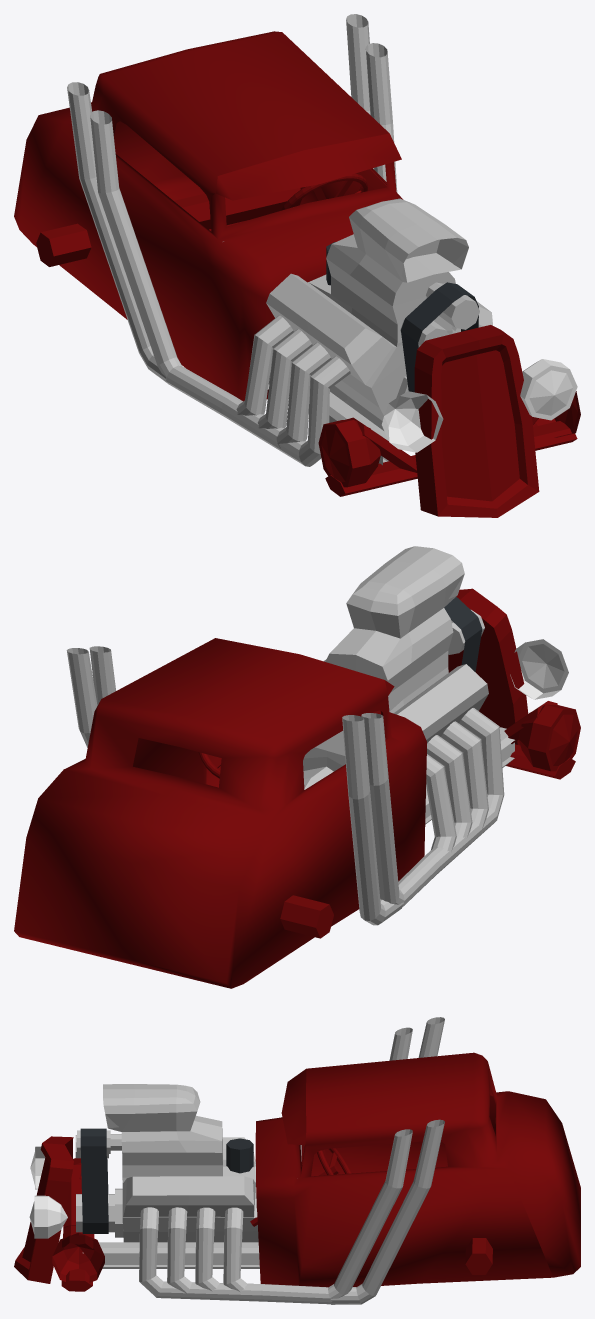
File: hot rod body.glb
3 views of the same model, one above another, from view 1: azimuth 30°, elevation 25°; view 2: azimuth 150°, elevation 25°; view 3: azimuth 270°, elevation 25° (orthographic). The views are drawn at different scales.
Parts seen in each view (by area): view 1: Cube.015; view 2: Cube.015; view 3: Cube.015.
Boxes of the visible parts, x1,y1,x2,y2 form: Cube.015: (14, 14, 580, 517); Cube.015: (14, 546, 580, 988); Cube.015: (14, 1017, 580, 1304).
Size of the model in its own units: 2.77 by 2.35 by 6.05.
